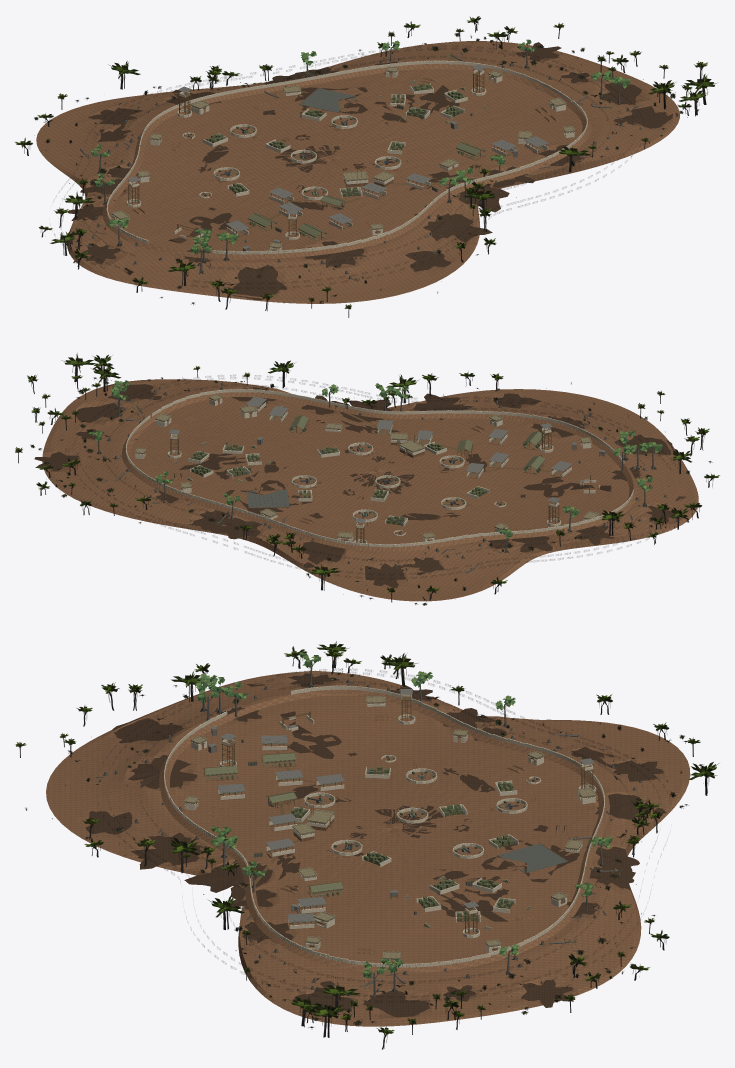
Rendered from fsb_main_v3.glb.
The picture shows the model from 3 angles, top to bottom: view 1: azimuth 30°, elevation 25°; view 2: azimuth 150°, elevation 25°; view 3: azimuth 270°, elevation 25°; orthographic projection. The views are drawn at different scales.
Parts seen in each view (by area): view 1: fb_terrain_mound, fb_berm_ring, fb_veg_felled_tree, fb_veg_jungle_palm_b3, fb_veg_jungle_palm_b1, fb_veg_jungle_palm_a2, fb_scorch.014, bwire_card_ring, fb_scorch.017, fb_veg_jungle_palm_a1, fb_helipad_i, fb_scorch.021 (+9 smaller); view 2: fb_terrain_mound, fb_berm_ring, fb_veg_felled_tree, fb_veg_jungle_palm_b3, fb_veg_jungle_palm_b1, fb_veg_jungle_palm_a2, bwire_card_ring, fb_veg_jungle_palm_a1, fb_scorch.007, fb_scorch.006, fb_helipad_i, fb_scorch.017 (+15 smaller); view 3: fb_terrain_mound, fb_berm_ring, fb_veg_felled_tree, fb_veg_jungle_palm_b3, fb_veg_jungle_palm_b1, fb_veg_jungle_palm_a2, bwire_card_ring, fb_scorch.017, fb_scorch.018, fb_veg_jungle_palm_a1, fb_scorch.014, fb_scorch.015 (+15 smaller).
Part boxes in pixels (left/top/right/bottom): fb_terrain_mound: left=36, top=41, right=679, bottom=303; fb_berm_ring: left=102, top=64, right=591, bottom=259; fb_veg_felled_tree: left=90, top=39, right=630, bottom=273; fb_veg_jungle_palm_b3: left=50, top=61, right=716, bottom=285; fb_veg_jungle_palm_b1: left=15, top=16, right=691, bottom=292; fb_veg_jungle_palm_a2: left=54, top=50, right=707, bottom=311; fb_scorch.014: left=231, top=265, right=286, bottom=299; bwire_card_ring: left=54, top=45, right=640, bottom=288; fb_scorch.017: left=423, top=213, right=492, bottom=243; fb_veg_jungle_palm_a1: left=58, top=23, right=668, bottom=317; fb_helipad_i: left=299, top=88, right=357, bottom=112; fb_scorch.021: left=613, top=104, right=678, bottom=128; fb_terrain_mound: left=42, top=379, right=698, bottom=601; fb_berm_ring: left=122, top=392, right=637, bottom=551; fb_veg_felled_tree: left=88, top=380, right=662, bottom=552; fb_veg_jungle_palm_b3: left=61, top=353, right=691, bottom=590; fb_veg_jungle_palm_b1: left=36, top=371, right=719, bottom=600; fb_veg_jungle_palm_a2: left=27, top=373, right=709, bottom=556; bwire_card_ring: left=77, top=375, right=678, bottom=579; fb_veg_jungle_palm_a1: left=15, top=366, right=665, bottom=602; fb_scorch.007: left=364, top=563, right=409, bottom=588; fb_scorch.006: left=300, top=541, right=344, bottom=567; fb_helipad_i: left=246, top=489, right=289, bottom=508; fb_scorch.017: left=413, top=393, right=473, bottom=410; fb_terrain_mound: left=46, top=670, right=690, bottom=1026; fb_berm_ring: left=159, top=689, right=609, bottom=973; fb_veg_felled_tree: left=195, top=651, right=612, bottom=998; fb_veg_jungle_palm_b3: left=167, top=641, right=718, bottom=1037; fb_veg_jungle_palm_b1: left=84, top=646, right=669, bottom=1022; fb_veg_jungle_palm_a2: left=76, top=650, right=663, bottom=1049; bwire_card_ring: left=103, top=669, right=667, bottom=1002; fb_scorch.017: left=124, top=832, right=203, bottom=869; fb_scorch.018: left=184, top=860, right=285, bottom=892; fb_veg_jungle_palm_a1: left=15, top=685, right=700, bottom=1034; fb_scorch.014: left=112, top=718, right=183, bottom=743; fb_scorch.015: left=128, top=755, right=197, bottom=789.
Size of what is drawn, in the model's own units: 272 by 15.73 by 208.
34 materials, 32 textured.
